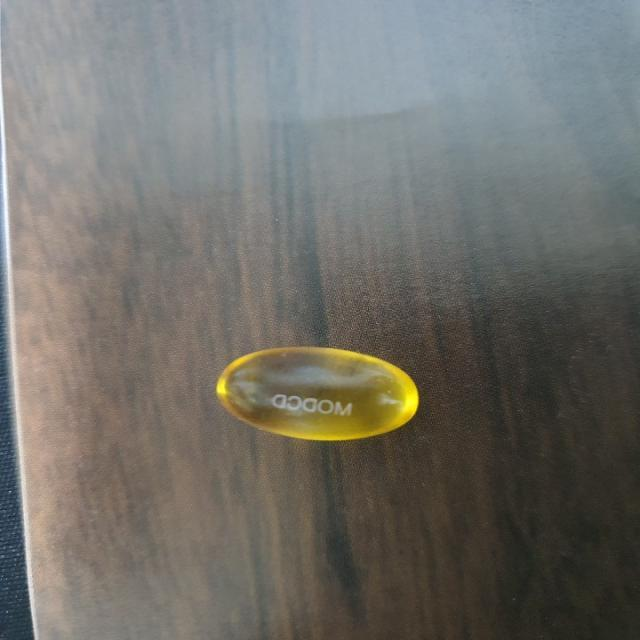pill: (205, 331, 428, 459)
